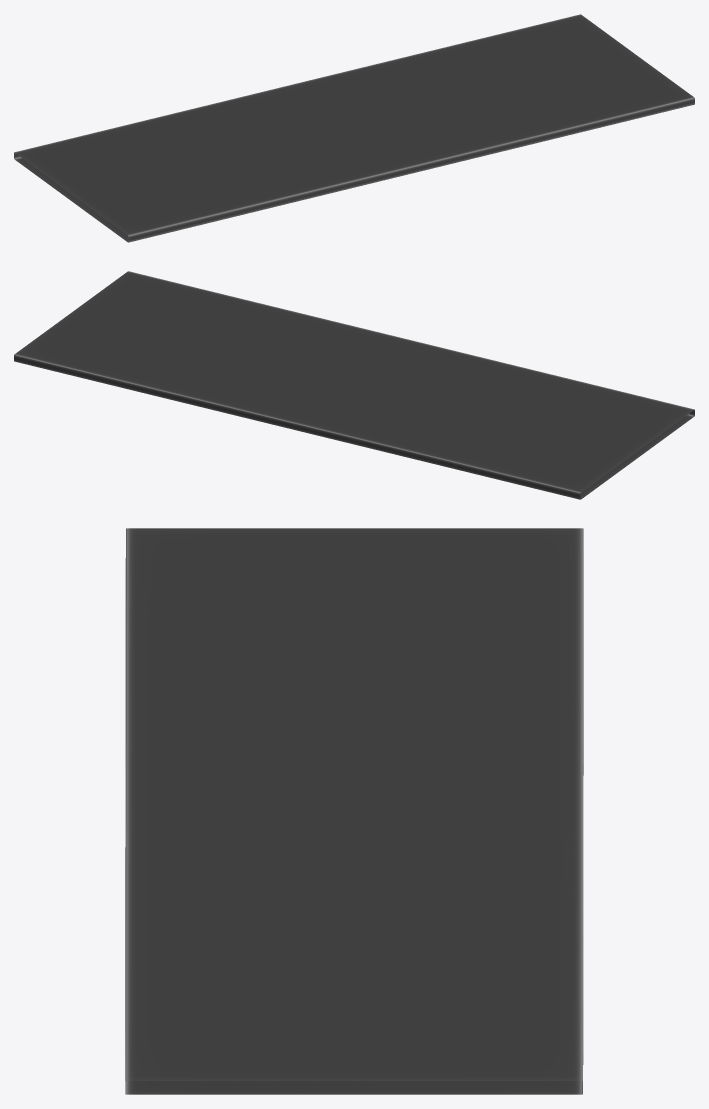
File: 3D_Track_Straight_Large.FBX
3 renders of one model, top to bottom at view 1: azimuth 30°, elevation 25°; view 2: azimuth 150°, elevation 25°; view 3: azimuth 270°, elevation 25°, orthographic. The views are drawn at different scales.
Parts seen in each view (by area): view 1: 3D_Track_Straight_Large; view 2: 3D_Track_Straight_Large; view 3: 3D_Track_Straight_Large.
Boxes of the visible parts, left/top/right/bottom form: 3D_Track_Straight_Large: left=14, top=14, right=694, bottom=242; 3D_Track_Straight_Large: left=14, top=271, right=694, bottom=499; 3D_Track_Straight_Large: left=125, top=528, right=583, bottom=1094.
Bounding box in the file's own units: 428 × 5 × 150.
